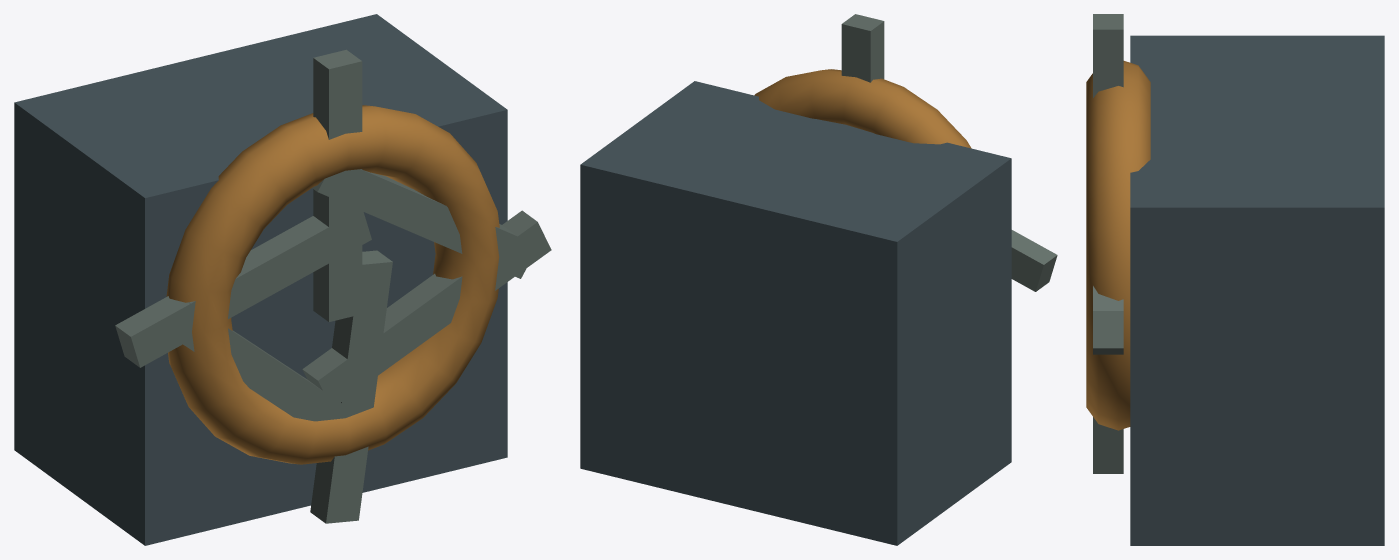
Rendered from dynamic-focus.glb.
3 renders of one model, left to right at view 1: azimuth 30°, elevation 25°; view 2: azimuth 150°, elevation 25°; view 3: azimuth 270°, elevation 25°, orthographic. The views are drawn at different scales.
Parts seen in each view (by area): view 1: frame, wheel, paddle_5, paddle_2, paddle_0, paddle_3, paddle_1, paddle_4; view 2: frame, wheel, paddle_0, paddle_5; view 3: frame, wheel, paddle_0, paddle_3, paddle_2, paddle_1.
Part boxes in pixels (left/top/right/bottom): frame: left=14, top=14, right=507, bottom=545; wheel: left=166, top=105, right=499, bottom=464; paddle_5: left=115, top=211, right=371, bottom=367; paddle_2: left=302, top=210, right=551, bottom=408; paddle_0: left=313, top=49, right=362, bottom=321; paddle_3: left=310, top=250, right=392, bottom=523; paddle_1: left=312, top=169, right=526, bottom=278; paddle_4: left=169, top=302, right=357, bottom=455; frame: left=580, top=81, right=1011, bottom=545; wheel: left=754, top=69, right=971, bottom=148; paddle_0: left=841, top=14, right=884, bottom=82; paddle_5: left=1011, top=230, right=1057, bottom=291; frame: left=1130, top=35, right=1384, bottom=545; wheel: left=1086, top=61, right=1150, bottom=430; paddle_0: left=1093, top=14, right=1123, bottom=97; paddle_3: left=1093, top=417, right=1123, bottom=473; paddle_2: left=1093, top=311, right=1123, bottom=348; paddle_1: left=1093, top=286, right=1123, bottom=354.
Size of what is drawn, in the model's own units: 2.79 by 2.9 by 1.76.
